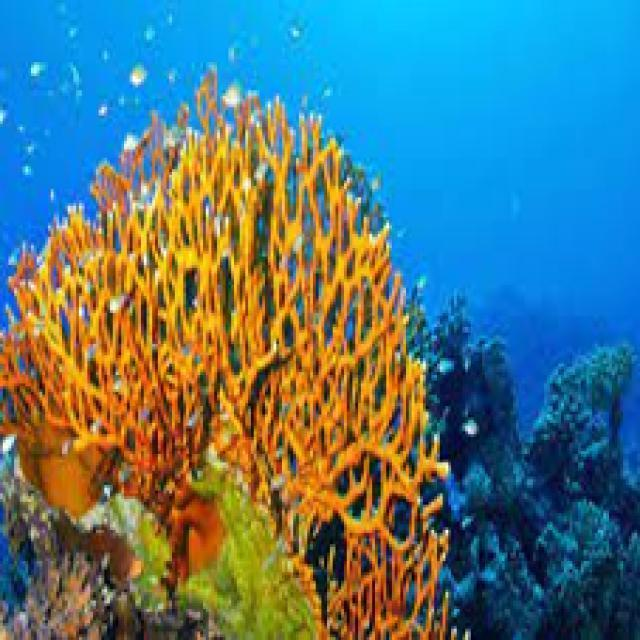Healthy Coral: (0, 116, 450, 628)
